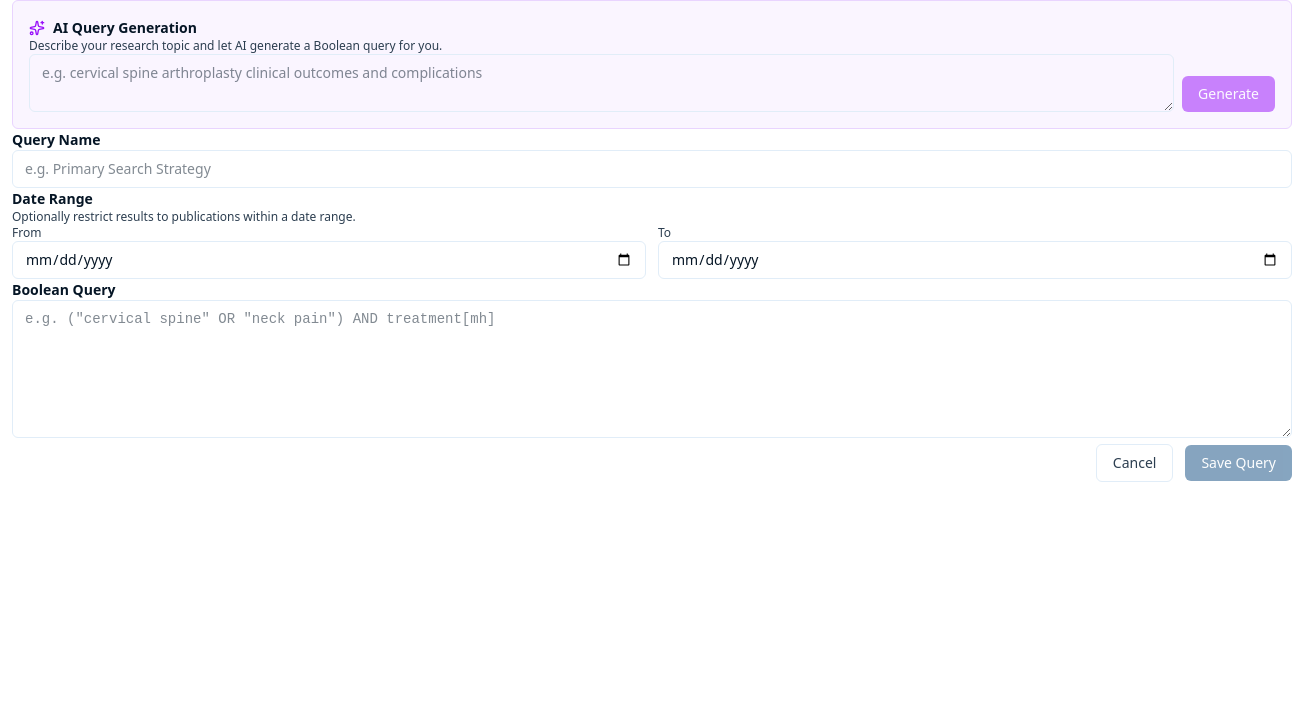
Test: QueryBuilder › displays validation errors for invalid query
In the text box with test id "query-string-input": point(652, 369) x1=12 y1=300 x2=1292 y2=438, type "(cancer AND treatment"
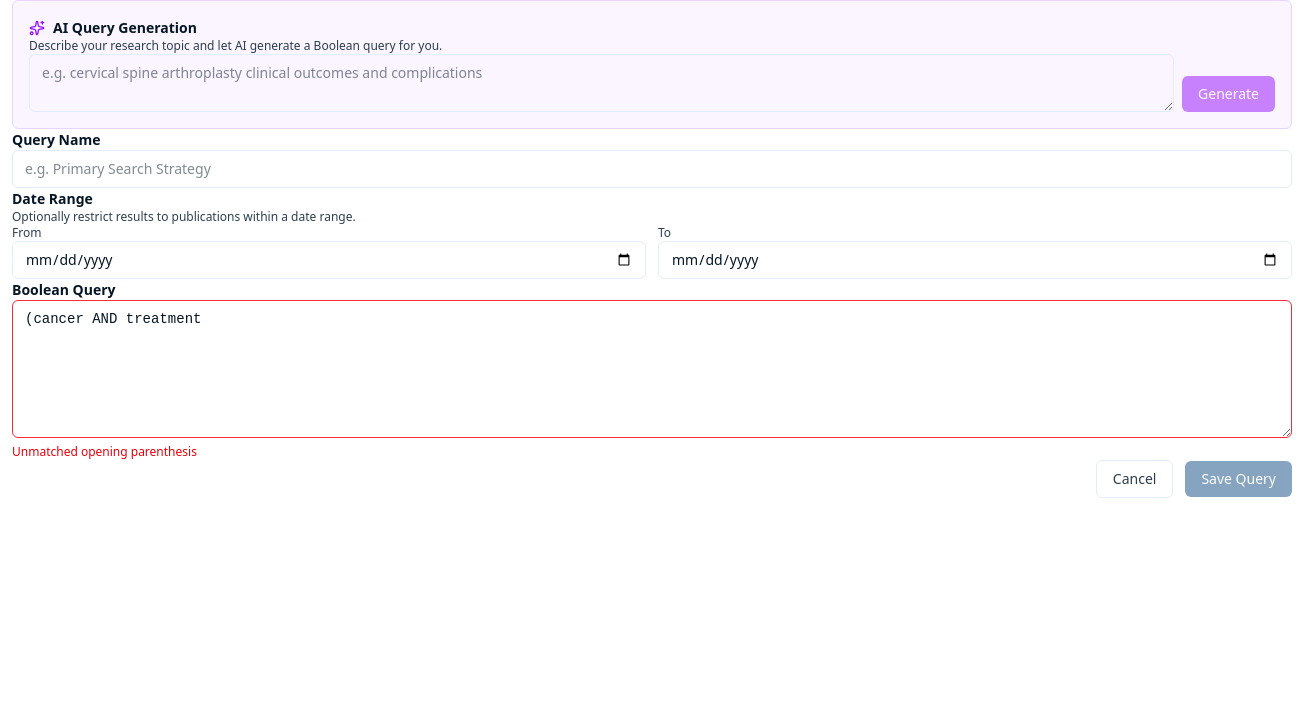
Result: the text "Unmatched opening parenthesis" is shown at x1=12 y1=443 x2=197 y2=460
